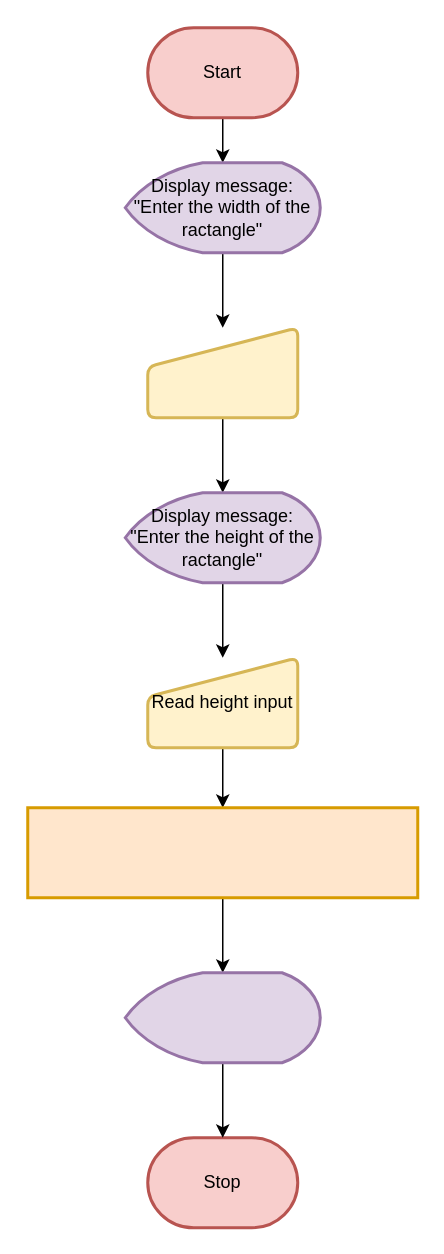
This 444x1254 diagram has some shape labels left out. The centre of each missing label's shape, as x and y in pixels:
Calculate area: area = width * height: point (222, 852)
Display message: "The area of the ractangle is",area: point (222, 1017)
Read width input: point (222, 372)
